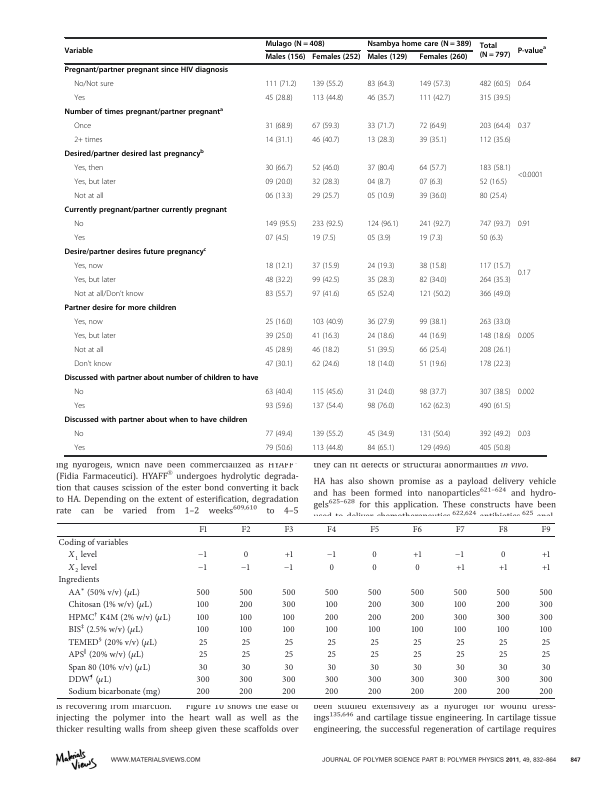borderless: (63, 36, 546, 455), (55, 521, 555, 698)
cell: (64, 374, 259, 384), (64, 416, 248, 426), (67, 608, 172, 625), (64, 107, 224, 118), (64, 66, 229, 76), (64, 206, 228, 216), (64, 247, 207, 258), (64, 149, 205, 160), (67, 634, 158, 650), (67, 597, 153, 612), (67, 659, 152, 674), (67, 646, 145, 662), (67, 621, 144, 637), (67, 584, 141, 600), (64, 304, 177, 314), (67, 687, 161, 698), (366, 40, 472, 49), (67, 671, 113, 687), (57, 538, 129, 548), (73, 290, 145, 299), (479, 42, 511, 60), (264, 40, 325, 49), (67, 559, 98, 576), (311, 53, 361, 63), (418, 53, 468, 63), (67, 547, 98, 563), (57, 575, 100, 586), (264, 53, 306, 63), (366, 53, 408, 63), (73, 178, 117, 187), (73, 276, 117, 285), (73, 332, 117, 341), (73, 80, 114, 89), (73, 360, 112, 369), (517, 45, 547, 56), (64, 46, 94, 56), (264, 80, 297, 89), (311, 80, 344, 89), (418, 80, 451, 89), (311, 94, 344, 103), (418, 94, 451, 103), (264, 220, 297, 229), (311, 220, 344, 229), (366, 220, 399, 229), (418, 220, 451, 229), (418, 290, 451, 299), (311, 318, 344, 327), (311, 388, 344, 397), (311, 402, 344, 411), (418, 402, 451, 411), (311, 430, 344, 439), (418, 430, 451, 439), (311, 444, 344, 453), (418, 444, 451, 453), (479, 80, 511, 89), (479, 94, 511, 103), (479, 122, 511, 131), (479, 136, 511, 145), (479, 164, 511, 173), (479, 220, 511, 229), (479, 262, 511, 271), (479, 276, 511, 285), (479, 290, 511, 299), (479, 318, 511, 327), (479, 332, 511, 341), (479, 346, 511, 355), (479, 360, 511, 369), (479, 388, 511, 397), (479, 402, 511, 411), (479, 430, 511, 439), (479, 444, 511, 453), (73, 164, 104, 173), (73, 192, 104, 201), (73, 262, 104, 271), (73, 318, 104, 327), (73, 346, 104, 355), (73, 136, 103, 145), (366, 80, 395, 89), (264, 94, 293, 103), (366, 94, 395, 103), (264, 122, 293, 131), (311, 122, 340, 131), (366, 122, 395, 131), (418, 122, 447, 131), (264, 136, 293, 145), (311, 136, 340, 145), (366, 136, 395, 145), (418, 136, 447, 145), (264, 164, 293, 173), (311, 164, 340, 173), (366, 164, 395, 173), (418, 164, 447, 173), (264, 178, 293, 187), (311, 178, 340, 187), (479, 178, 508, 187), (264, 192, 293, 201), (311, 192, 340, 201), (366, 192, 395, 201), (418, 192, 447, 201), (479, 192, 508, 201), (264, 262, 293, 271), (311, 262, 340, 271), (366, 262, 395, 271), (418, 262, 447, 271), (264, 276, 293, 285), (311, 276, 340, 285), (366, 276, 395, 285), (418, 276, 447, 285), (264, 290, 293, 299), (311, 290, 340, 299), (366, 290, 395, 299), (264, 318, 293, 327), (366, 318, 395, 327), (418, 318, 447, 327), (264, 332, 293, 341), (311, 332, 340, 341), (366, 332, 395, 341), (418, 332, 447, 341), (264, 346, 293, 355), (311, 346, 340, 355), (366, 346, 395, 355), (418, 346, 447, 355), (264, 360, 293, 369), (311, 360, 340, 369), (366, 360, 395, 369), (418, 360, 447, 369), (264, 388, 293, 397), (366, 388, 395, 397), (418, 388, 447, 397), (264, 402, 293, 411), (366, 402, 395, 411), (264, 430, 293, 439), (366, 430, 395, 439), (264, 444, 293, 453), (366, 444, 395, 453), (517, 171, 544, 180), (366, 178, 392, 187), (418, 178, 444, 187), (264, 234, 290, 243), (366, 234, 392, 243), (418, 234, 444, 243), (311, 234, 336, 243), (479, 234, 504, 243), (197, 559, 209, 575), (240, 559, 252, 575), (283, 559, 295, 575), (197, 547, 209, 562), (326, 547, 338, 562), (238, 600, 254, 611), (238, 687, 254, 698), (73, 122, 92, 131), (455, 547, 466, 562), (281, 600, 296, 611), (367, 600, 382, 611), (410, 600, 425, 611), (496, 600, 511, 611), (539, 600, 554, 611), (324, 612, 339, 623), (367, 612, 382, 623), (410, 612, 425, 623), (453, 612, 468, 623), (496, 612, 511, 623), (539, 612, 554, 623), (196, 687, 211, 698), (281, 687, 296, 698), (324, 687, 339, 698), (367, 687, 382, 698), (410, 687, 425, 698), (453, 687, 468, 698), (496, 687, 511, 698), (539, 687, 554, 698), (517, 332, 535, 341), (517, 388, 535, 397), (238, 588, 254, 598), (238, 675, 254, 685), (196, 600, 210, 611), (325, 600, 339, 611), (453, 600, 467, 611), (196, 612, 210, 623), (239, 612, 253, 623), (282, 612, 296, 623), (196, 625, 210, 636), (239, 625, 253, 636), (282, 625, 296, 636), (325, 625, 339, 636), (368, 625, 382, 636), (410, 625, 424, 636), (453, 625, 467, 636), (496, 625, 510, 636), (539, 625, 553, 636), (196, 588, 211, 598), (281, 588, 296, 598), (324, 588, 339, 598), (367, 588, 382, 598), (410, 588, 425, 598), (453, 588, 468, 598), (496, 588, 511, 598), (539, 588, 554, 598), (196, 675, 211, 685), (281, 675, 296, 685), (324, 675, 339, 685), (367, 675, 382, 685), (410, 675, 425, 685), (453, 675, 468, 685), (496, 675, 511, 685), (539, 675, 554, 685), (517, 80, 531, 89), (517, 122, 531, 131), (517, 220, 531, 229), (517, 269, 531, 278), (517, 430, 531, 439), (283, 525, 294, 536), (326, 525, 337, 536), (369, 525, 380, 536), (412, 525, 423, 536), (455, 525, 466, 536), (498, 525, 509, 536), (541, 525, 552, 536), (412, 550, 423, 561), (369, 637, 380, 648), (412, 637, 423, 648), (455, 637, 466, 648), (326, 662, 337, 673), (369, 662, 380, 673), (412, 662, 423, 673), (455, 662, 466, 673), (73, 94, 86, 103), (73, 234, 86, 243), (73, 402, 86, 411), (73, 444, 86, 453), (198, 525, 208, 536), (241, 525, 251, 536), (284, 550, 294, 561), (541, 550, 551, 561), (198, 637, 208, 648), (241, 637, 251, 648), (284, 637, 294, 648), (327, 637, 337, 648), (498, 637, 508, 648), (541, 637, 551, 648), (369, 650, 380, 660), (412, 650, 423, 660), (455, 650, 466, 660), (198, 662, 208, 673), (241, 662, 251, 673), (284, 662, 294, 673), (498, 662, 508, 673), (541, 662, 551, 673), (455, 563, 465, 573), (498, 563, 508, 573), (541, 563, 551, 573), (198, 650, 208, 660), (241, 650, 251, 660), (284, 650, 294, 660), (327, 650, 337, 660), (498, 650, 508, 660), (541, 650, 551, 660), (73, 220, 84, 229), (73, 388, 84, 397), (73, 430, 84, 439), (371, 550, 378, 561), (371, 563, 378, 573), (414, 563, 421, 573), (243, 550, 249, 561), (500, 550, 506, 561), (329, 563, 335, 573)
